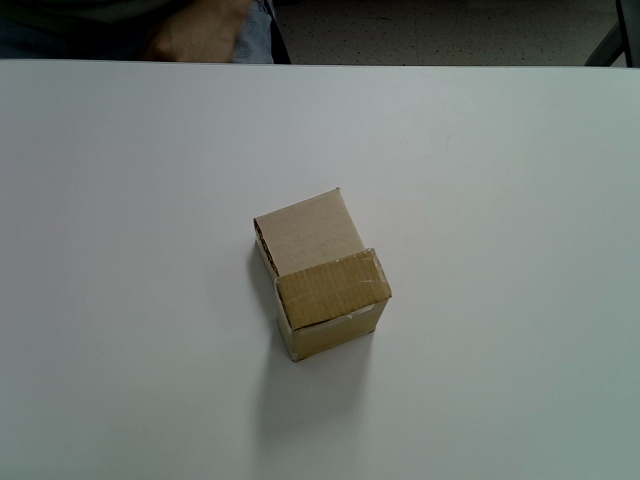normal: (275, 248, 394, 363), (254, 186, 368, 285)
